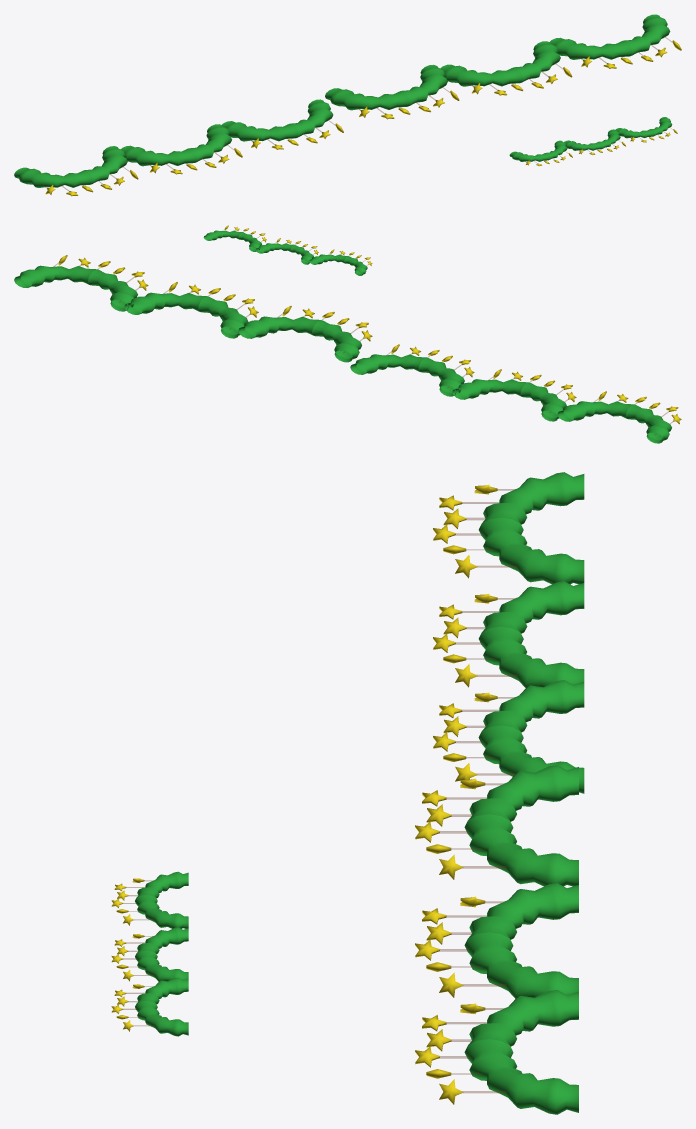
Rendered from garlands.fbx.
The picture shows the model from 3 angles, top to bottom: view 1: azimuth 30°, elevation 25°; view 2: azimuth 150°, elevation 25°; view 3: azimuth 270°, elevation 25°; orthographic projection. The views are drawn at different scales.
Visible parts, largest first — view 1: Torus; view 2: Torus; view 3: Torus.
Part boxes in pixels (<box>): Torus: <box>14,14,681,196</box>; Torus: <box>14,225,681,443</box>; Torus: <box>111,472,584,1114</box>.
Bounding box in the file's own units: 9.71 × 0.3159 × 3.08.
